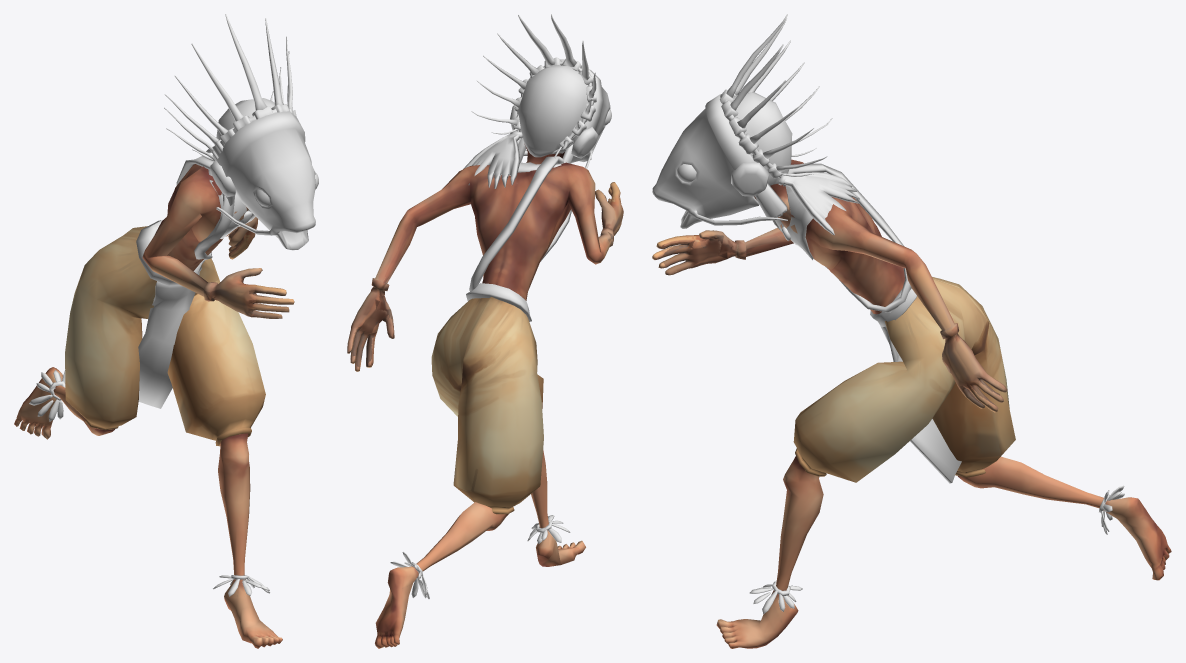
The model's file is AI_SHADERTEST.fbx.
3 renders of one model, left to right at view 1: azimuth 30°, elevation 25°; view 2: azimuth 150°, elevation 25°; view 3: azimuth 270°, elevation 25°, orthographic. The views are drawn at different scales.
Visible parts, largest first — view 1: Cube.017, Cube.003, Cube.001, Cube.015, Cube.006, Cube, Cube.013, Cube.014, Cube.005, Cube.008, Cube.004, Cube.011; view 2: Cube.003, Cube.017, Cube.008, Cube.006, Cube.013, Cube.009, Cube.001, Cube.005, Cube.004, Cube.014, Cube; view 3: Cube.003, Cube.017, Cube.001, Cube.006, Cube.009, Cube.008, Cube.004, Cube.015, Cube.013, Cube, Cube.005, Cube.011.
Boxes of the visible parts, <box> form: Cube.017: <box>65,226,265,446</box>; Cube.003: <box>14,164,294,648</box>; Cube.001: <box>216,111,315,250</box>; Cube.015: <box>138,272,199,408</box>; Cube.006: <box>164,14,292,161</box>; Cube: <box>29,370,269,596</box>; Cube.013: <box>176,156,234,261</box>; Cube.014: <box>136,219,204,285</box>; Cube.005: <box>212,104,296,160</box>; Cube.008: <box>216,98,274,139</box>; Cube.004: <box>210,160,235,205</box>; Cube.011: <box>208,169,255,238</box>; Cube.003: <box>347,144,623,648</box>; Cube.017: <box>431,297,543,514</box>; Cube.008: <box>518,65,588,157</box>; Cube.006: <box>471,14,596,157</box>; Cube.013: <box>469,156,571,291</box>; Cube.009: <box>463,131,523,188</box>; Cube.001: <box>523,59,610,168</box>; Cube.005: <box>513,57,596,149</box>; Cube.004: <box>510,105,598,163</box>; Cube.014: <box>466,283,531,321</box>; Cube: <box>390,515,570,598</box>; Cube.003: <box>652,159,1171,648</box>; Cube.017: <box>793,277,1015,482</box>; Cube.001: <box>652,94,787,228</box>; Cube.006: <box>726,14,832,176</box>; Cube.009: <box>778,172,859,235</box>; Cube.008: <box>728,92,792,186</box>; Cube.004: <box>731,162,787,217</box>; Cube.015: <box>880,326,961,483</box>; Cube.013: <box>772,163,911,312</box>; Cube: <box>749,485,1124,613</box>; Cube.005: <box>720,89,781,178</box>; Cube.011: <box>775,186,813,260</box>.
Bounding box in the file's own units: 270 × 836 × 632.
